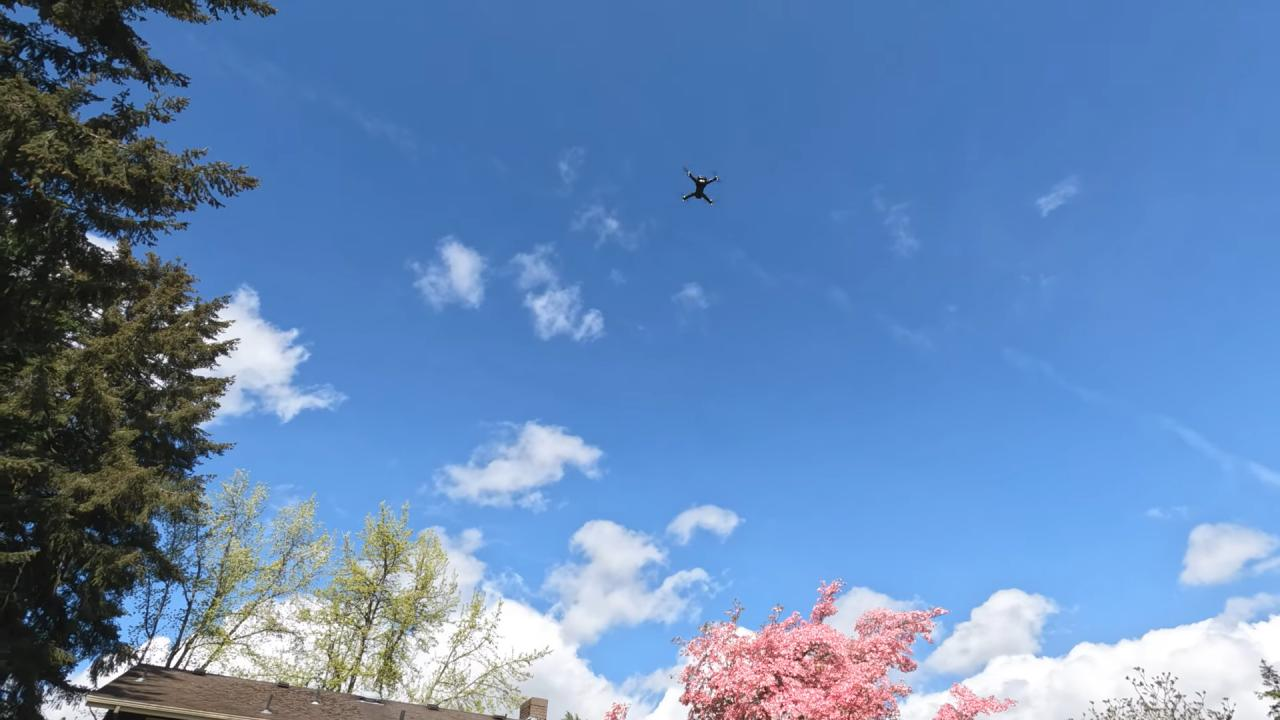Drone: (672, 157, 729, 219)
